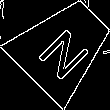N_NE: (31, 15, 95, 79)
